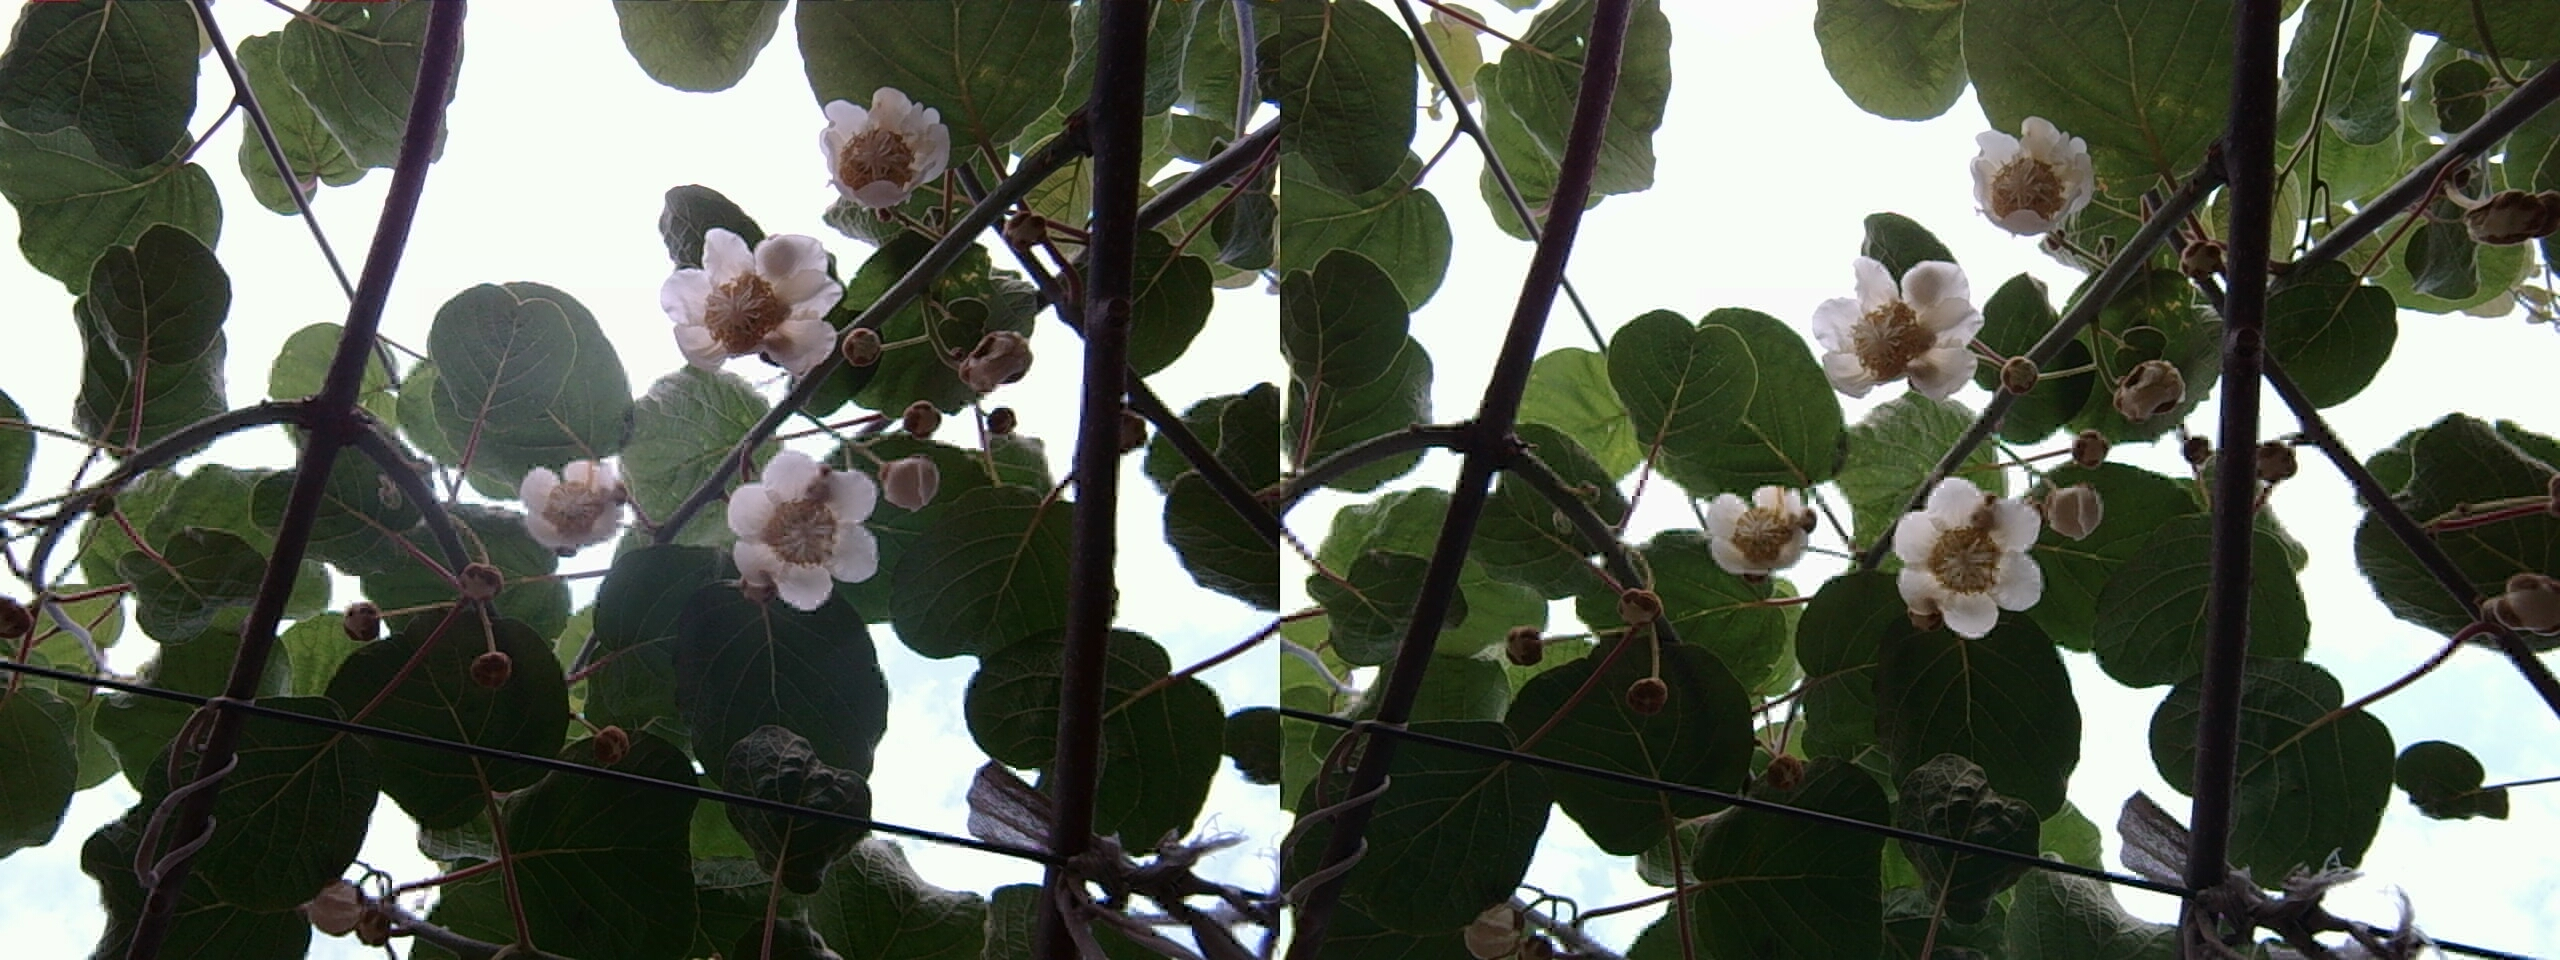flower: (1807, 229, 1984, 398), (653, 216, 846, 367), (1886, 472, 2052, 637), (717, 449, 883, 606), (811, 82, 953, 214), (1964, 111, 2095, 238)
